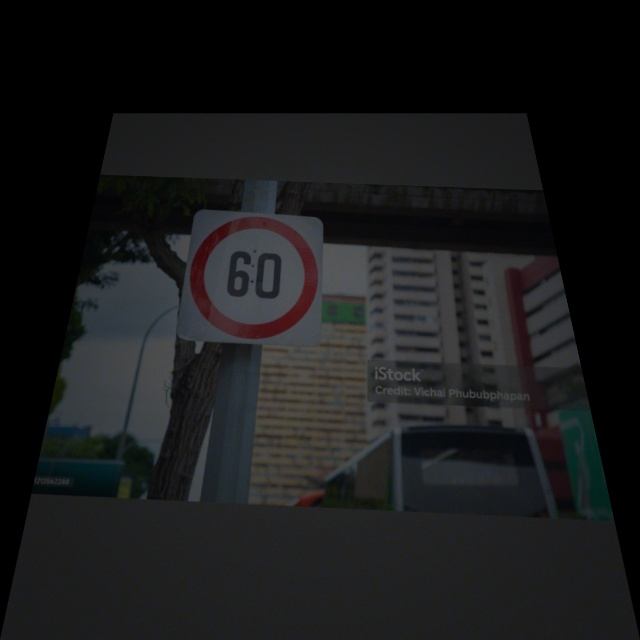Speed_Limit_60: (174, 211, 327, 348)
